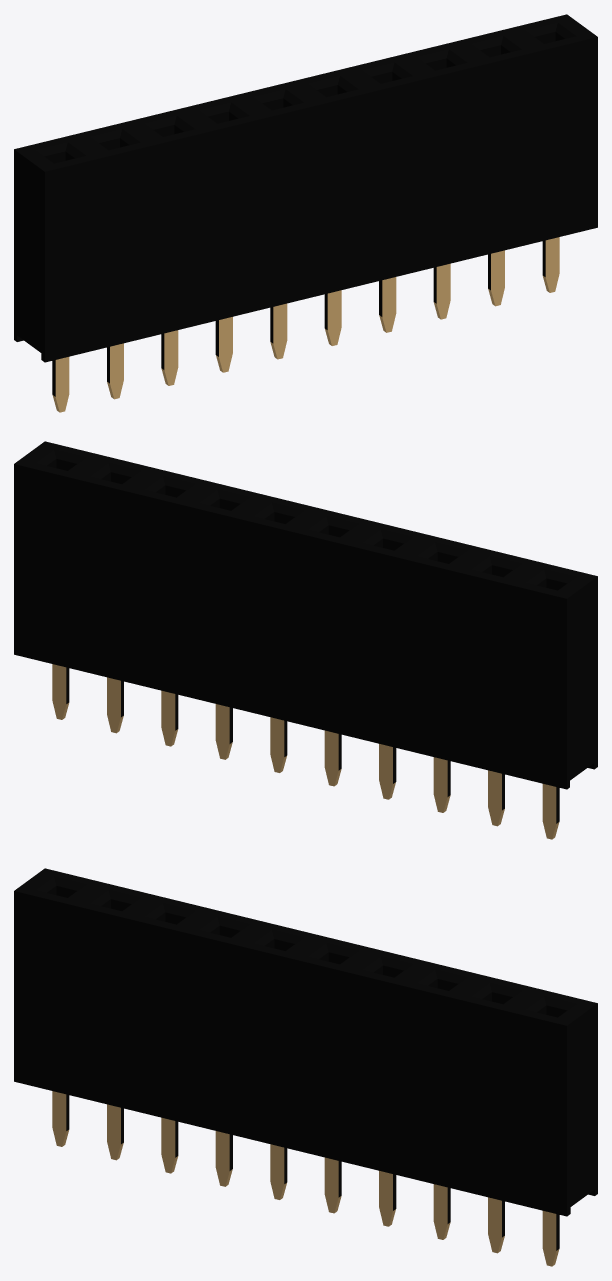
3 renders of one model, top to bottom at view 1: azimuth 30°, elevation 25°; view 2: azimuth 150°, elevation 25°; view 3: azimuth 330°, elevation 25°, orthographic.
Parts seen in each view (by area): view 1: _1896; view 2: _1896; view 3: _1896.
Boxes of the visible parts, bbox=[...] form: _1896: bbox=[14, 14, 597, 412]; _1896: bbox=[14, 441, 597, 839]; _1896: bbox=[14, 868, 597, 1266].
Bounding box in the file's own units: 25.8 × 2.5 × 11.5.
